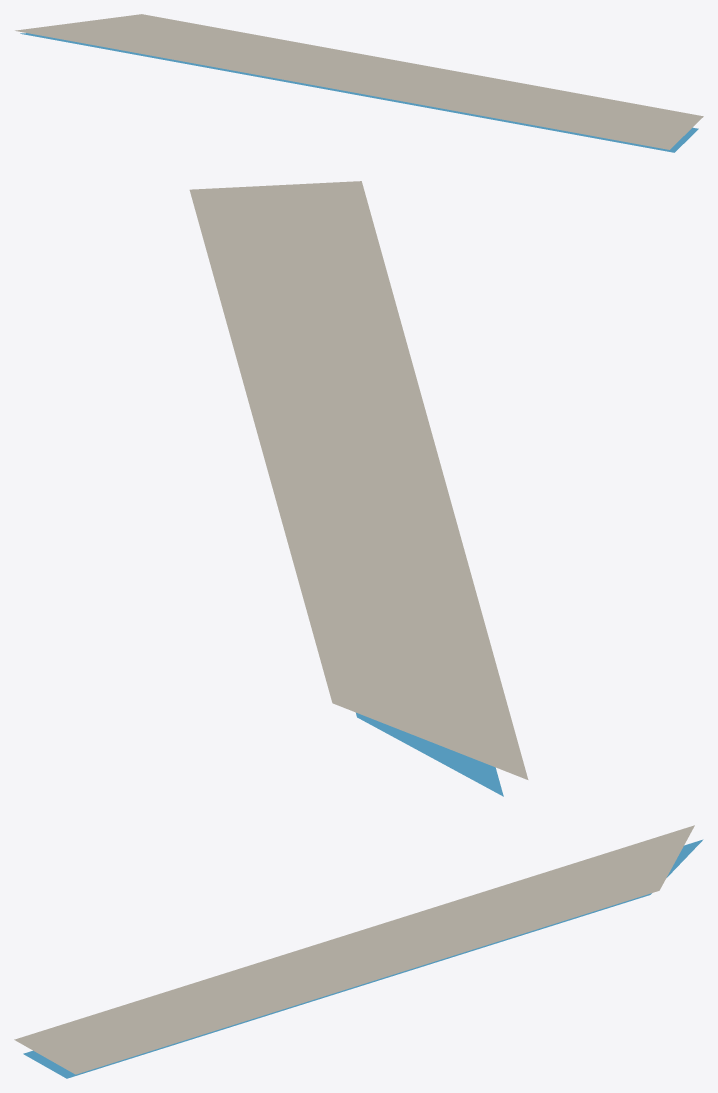
The picture shows the model from 3 angles, top to bottom: view 1: azimuth 30°, elevation 25°; view 2: azimuth 150°, elevation 25°; view 3: azimuth 270°, elevation 25°; orthographic projection. The views are drawn at different scales.
Visible parts, largest first — view 1: estructura_terreno, estructura_agua; view 2: estructura_terreno, estructura_agua; view 3: estructura_terreno, estructura_agua.
Part boxes in pixels (x1,y1,x2,y2): estructura_terreno: (15,14,703,149); estructura_agua: (20,33,698,152); estructura_terreno: (189,181,528,779); estructura_agua: (356,712,503,796); estructura_terreno: (14,825,694,1074); estructura_agua: (23,839,703,1078).
Bounding box in the file's own units: 24.03 × 0.41 × 28.07.
